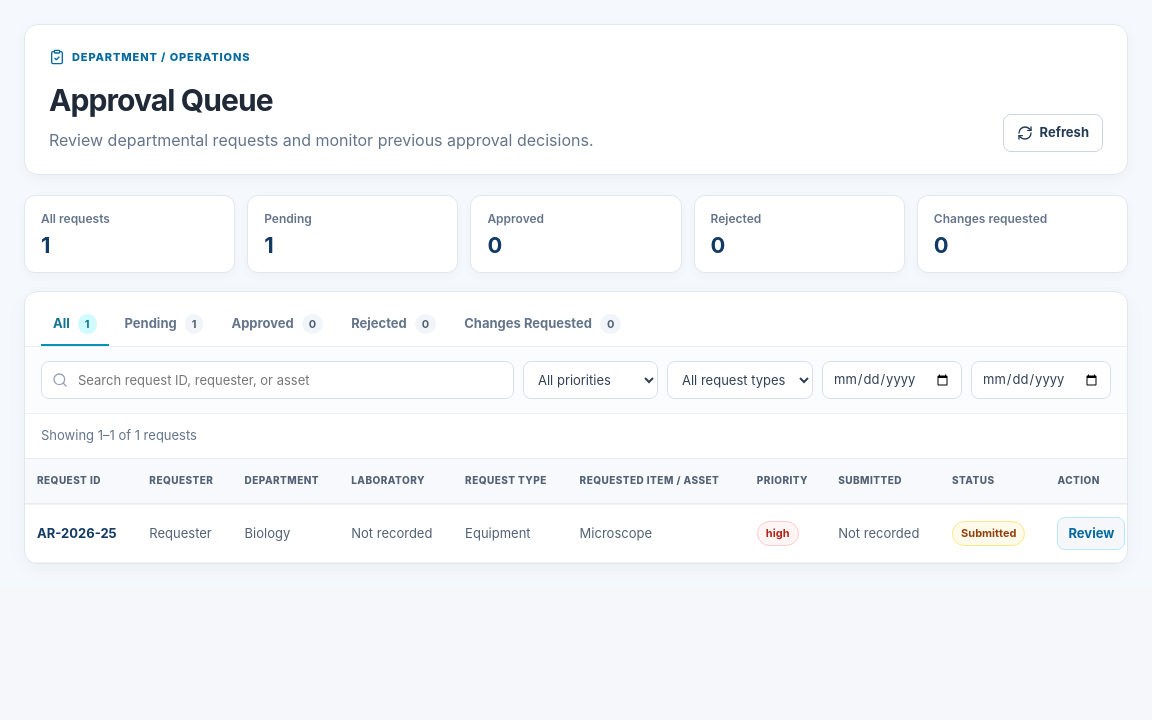
loads the queue and reviews request details, attachment, requester and history
The width and height of the screenshot is (1152, 720).
Expected: the text "Microscope" is shown, [568,504,745,562]
Expected: the text "Biology" is shown, [233,504,339,562]
Click the button "Review" at {"x": 1091, "y": 533}, box [1058,516,1125,550]
(page scrolled)
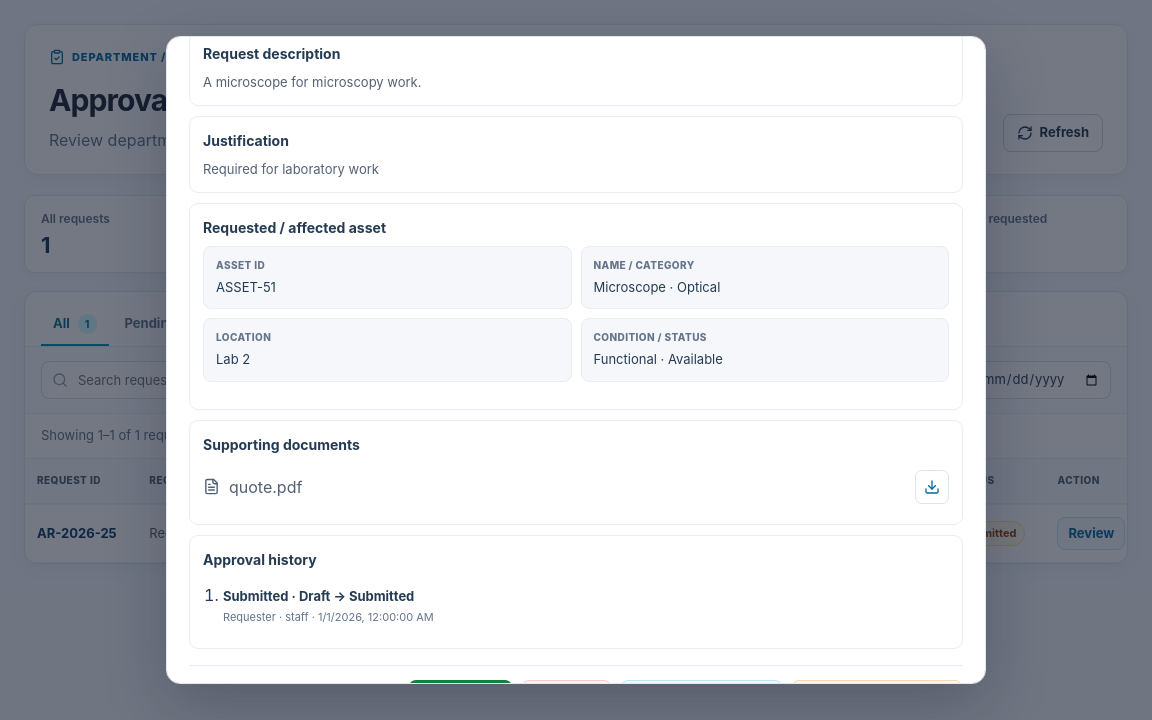
Result: the text "Required for laboratory work" is shown at [203,161,379,177]
Result: the text "quote.pdf" is shown at [229,477,302,497]
Result: the text "Submitted · Draft → Submitted" is shown at [223,588,414,604]
